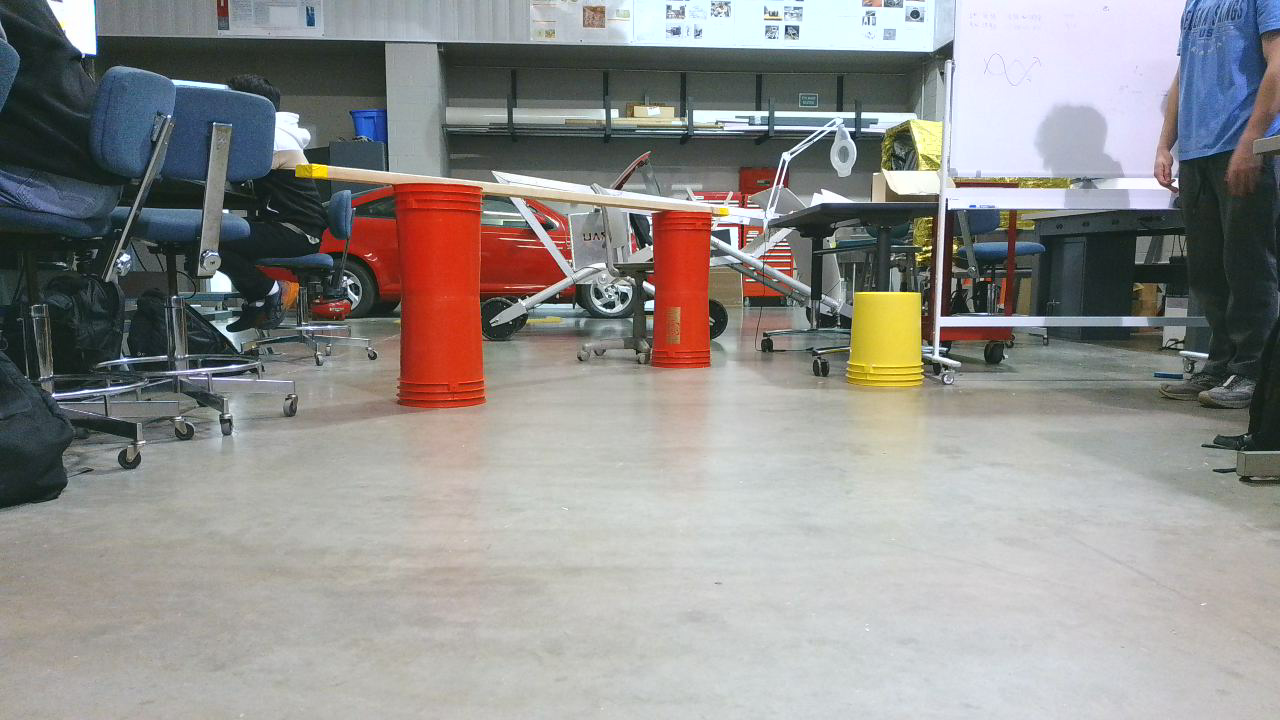red_bucket_arch: (307, 168, 718, 404)
yellow_bucket: (858, 295, 931, 390)
